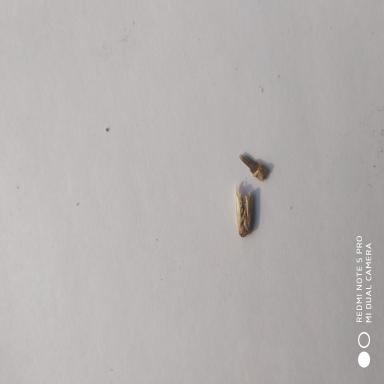pbw: (233, 186, 260, 242), (238, 152, 270, 182)
